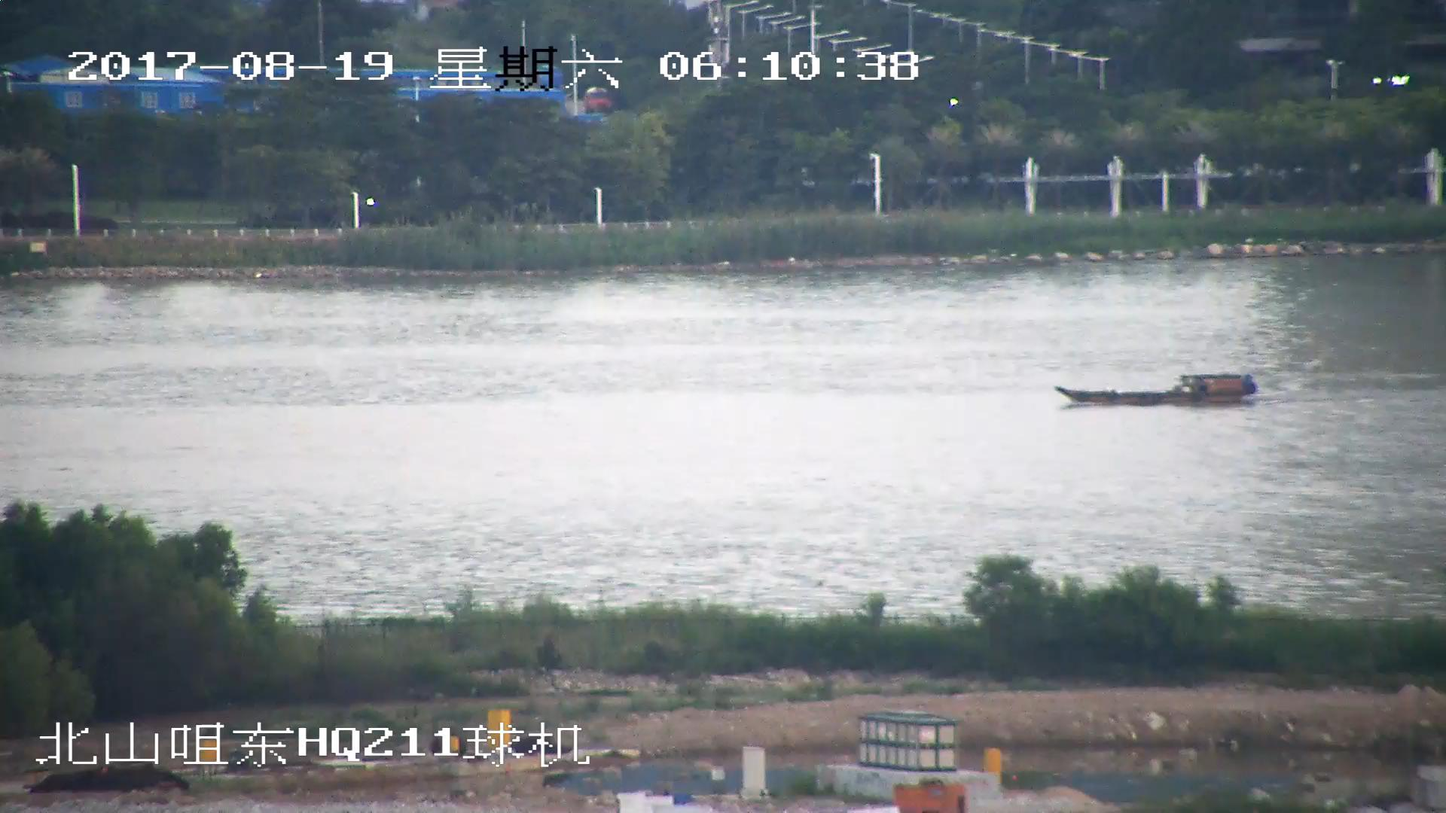fishing boat: (1057, 373, 1254, 403)
